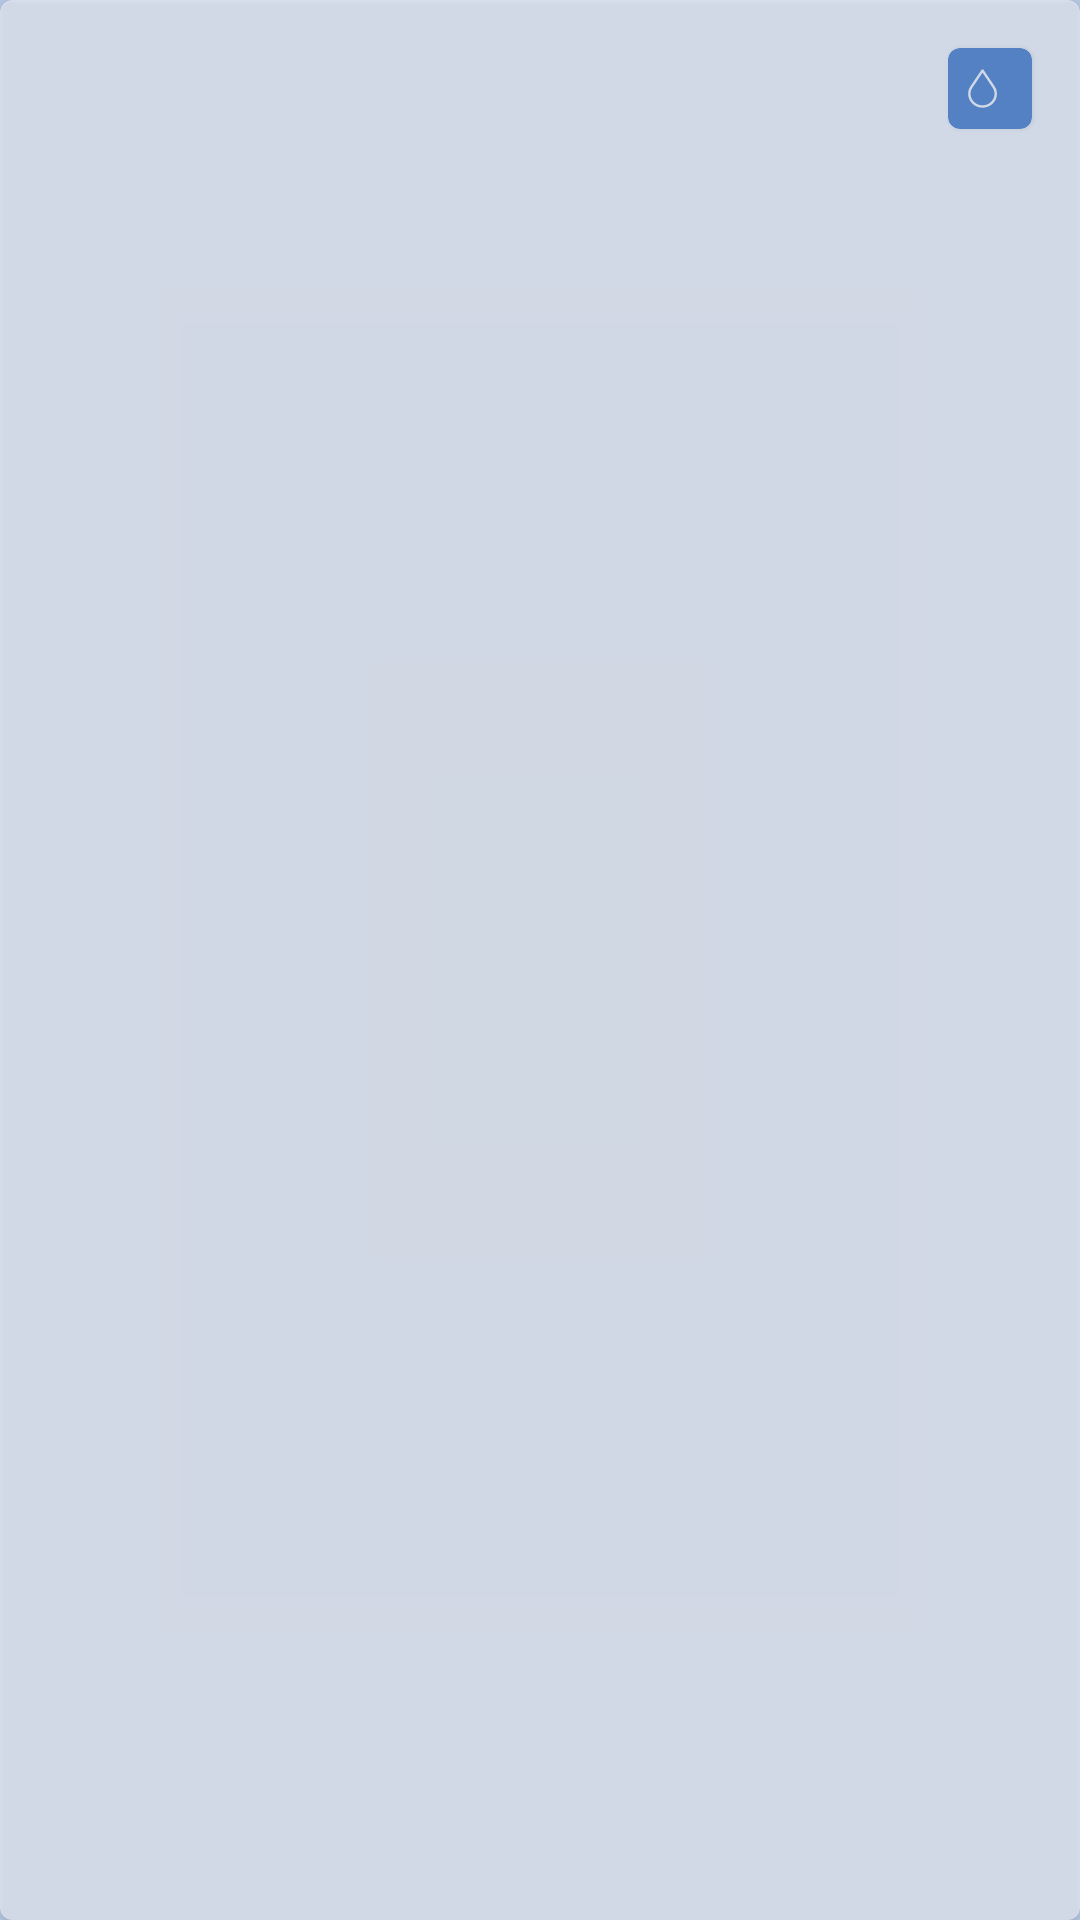

Icon bounding boxes for this 1080w x 1920h phone screenshot, format {"left": x1, "top": y1, "right": x2, "bottom": y2}:
drop: {"left": 968, "top": 69, "right": 997, "bottom": 108}
